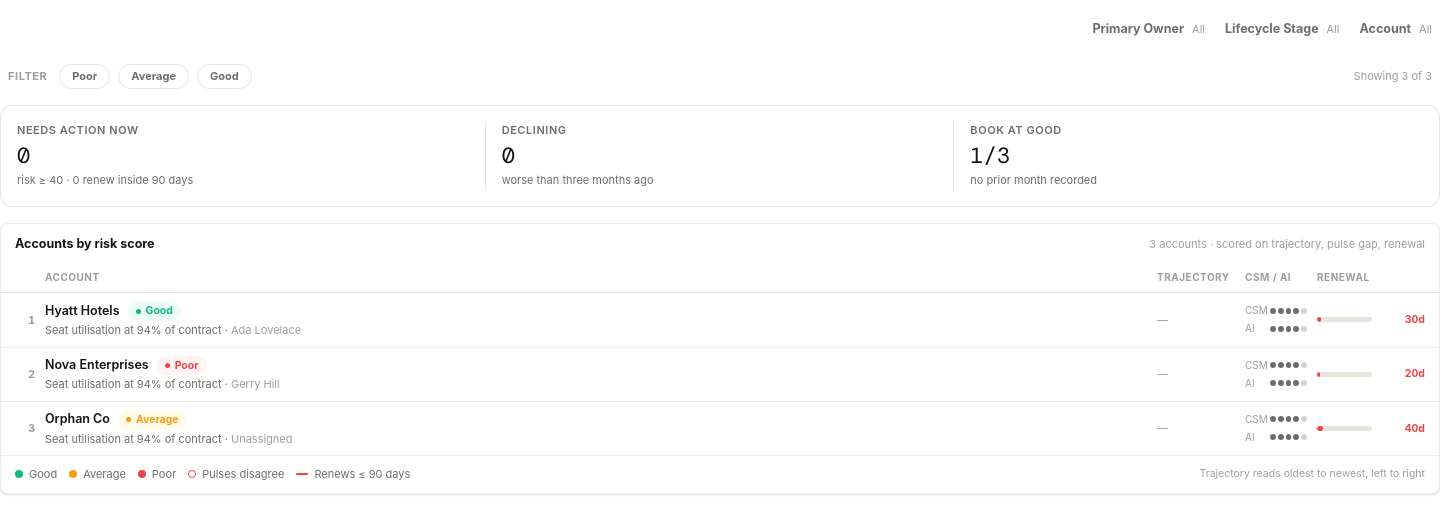
Primary Owner filter › narrows the accounts every tab is reading
Expected: the text "Nova Enterprises" is shown, [45,356,149,375]
Expected: the text "Hyatt Hotels" is shown, [45,302,120,321]
Select "Gerry Hill (1)" in the dropdown labelled "Primary Owner" at [1149, 30], box [1084,12,1213,48]
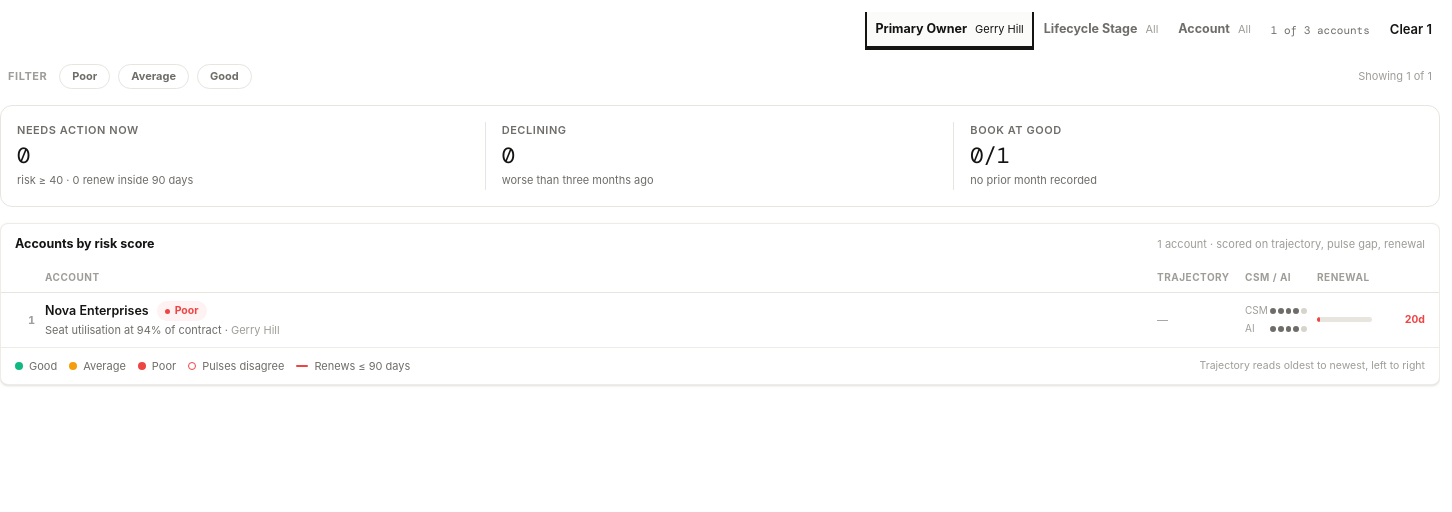
Expected: the text "Nova Enterprises" is shown, [45,302,149,321]
Now the text "Hyatt Hotels" is gone
